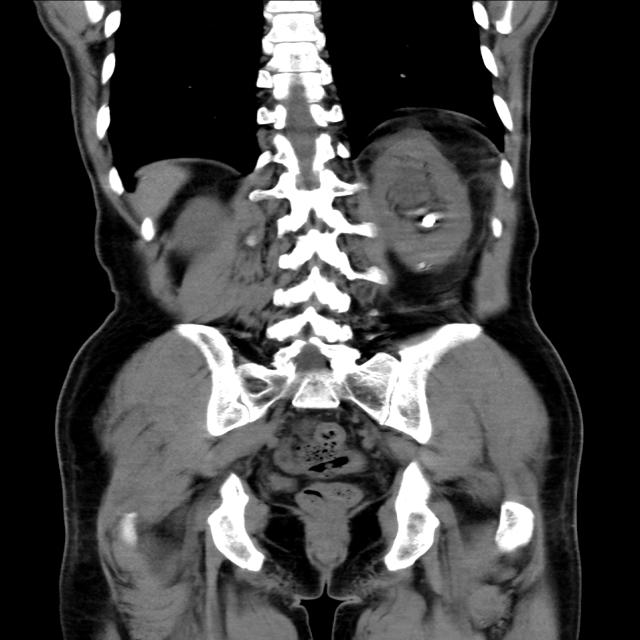kidneystone: (422, 214, 438, 228)
